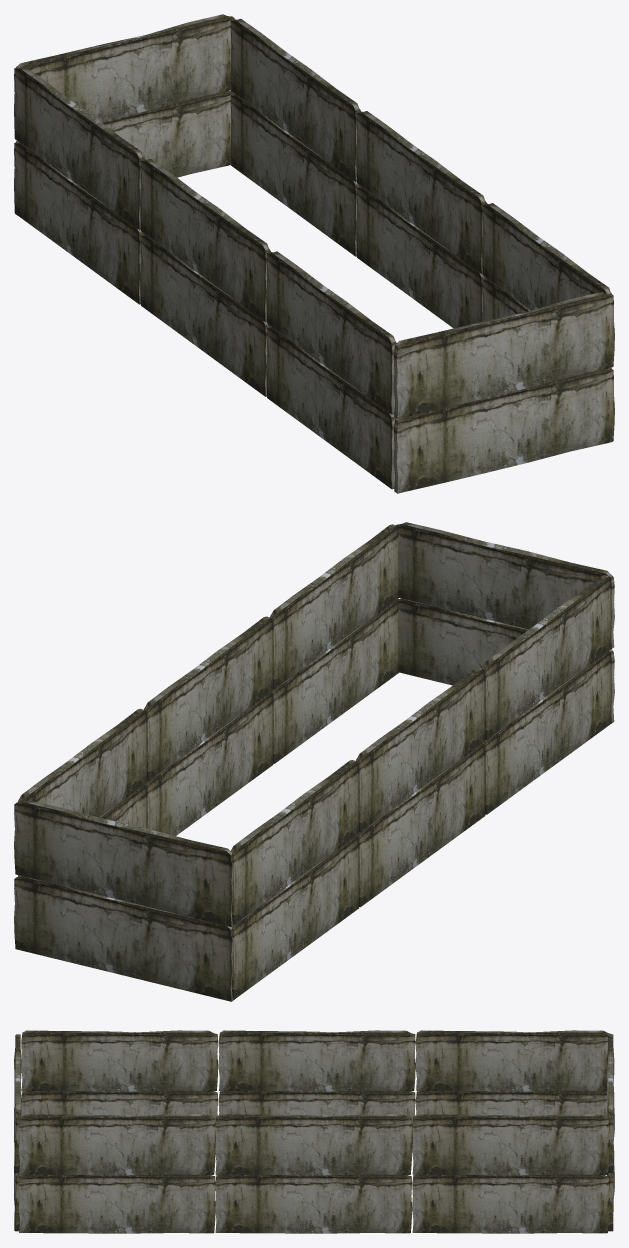
File: room.glb
3 renders of one model, top to bottom at view 1: azimuth 30°, elevation 25°; view 2: azimuth 150°, elevation 25°; view 3: azimuth 270°, elevation 25°, orthographic. The views are drawn at different scales.
Parts seen in each view (by area): view 1: Cube.005, Cube.006, Cube.012, Cube.003, Cube.016, Cube.011, Cube.015, Cube.008, Cube.004, Cube.014, Cube.001, Cube.010 (+4 smaller); view 2: Cube.012, Cube.002, Cube.005, Cube.011, Cube.003, Cube.015, Cube.016, Cube.007, Cube.001, Cube.004, Cube.014, Cube.009 (+4 smaller); view 3: Cube.016, Cube.003, Cube.007, Cube.015, Cube.008, Cube.011, Cube.009, Cube.013, Cube.010, Cube.014, Cube.004, Cube.001 (+4 smaller).
Part boxes in pixels (bbox=[...]): Cube.005: bbox=[393, 292, 614, 418]; Cube.006: bbox=[393, 368, 614, 493]; Cube.012: bbox=[15, 14, 234, 140]; Cube.003: bbox=[266, 251, 396, 414]; Cube.016: bbox=[140, 159, 270, 322]; Cube.011: bbox=[14, 66, 144, 229]; Cube.015: bbox=[356, 111, 486, 274]; Cube.008: bbox=[230, 19, 360, 181]; Cube.004: bbox=[266, 326, 395, 489]; Cube.014: bbox=[140, 234, 270, 396]; Cube.001: bbox=[14, 142, 144, 304]; Cube.010: bbox=[230, 94, 360, 256]; Cube.012: bbox=[14, 800, 234, 926]; Cube.002: bbox=[14, 876, 234, 1001]; Cube.005: bbox=[396, 522, 614, 648]; Cube.011: bbox=[231, 760, 359, 924]; Cube.003: bbox=[482, 575, 611, 739]; Cube.015: bbox=[144, 616, 273, 781]; Cube.016: bbox=[356, 667, 485, 832]; Cube.007: bbox=[270, 524, 398, 689]; Cube.001: bbox=[231, 836, 359, 999]; Cube.004: bbox=[483, 651, 611, 814]; Cube.014: bbox=[356, 743, 485, 907]; Cube.009: bbox=[271, 600, 398, 763]; Cube.016: bbox=[218, 1030, 415, 1091]; Cube.003: bbox=[21, 1030, 218, 1091]; Cube.007: bbox=[18, 1114, 215, 1175]; Cube.015: bbox=[215, 1114, 412, 1175]; Cube.008: bbox=[412, 1114, 609, 1175]; Cube.011: bbox=[415, 1030, 611, 1091]; Cube.009: bbox=[18, 1174, 215, 1233]; Cube.013: bbox=[215, 1174, 412, 1233]; Cube.010: bbox=[412, 1174, 609, 1233]; Cube.014: bbox=[218, 1091, 415, 1147]; Cube.004: bbox=[21, 1091, 217, 1142]; Cube.001: bbox=[415, 1091, 606, 1117].
Bounding box in the file's own units: 5.92 × 3.86 × 17.68.
Materials: 1 (1 with a texture image).
